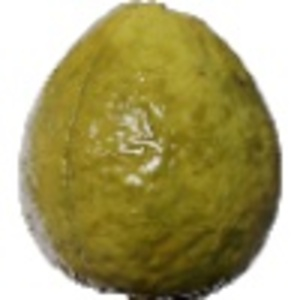goiaba: (10, 3, 285, 295)
